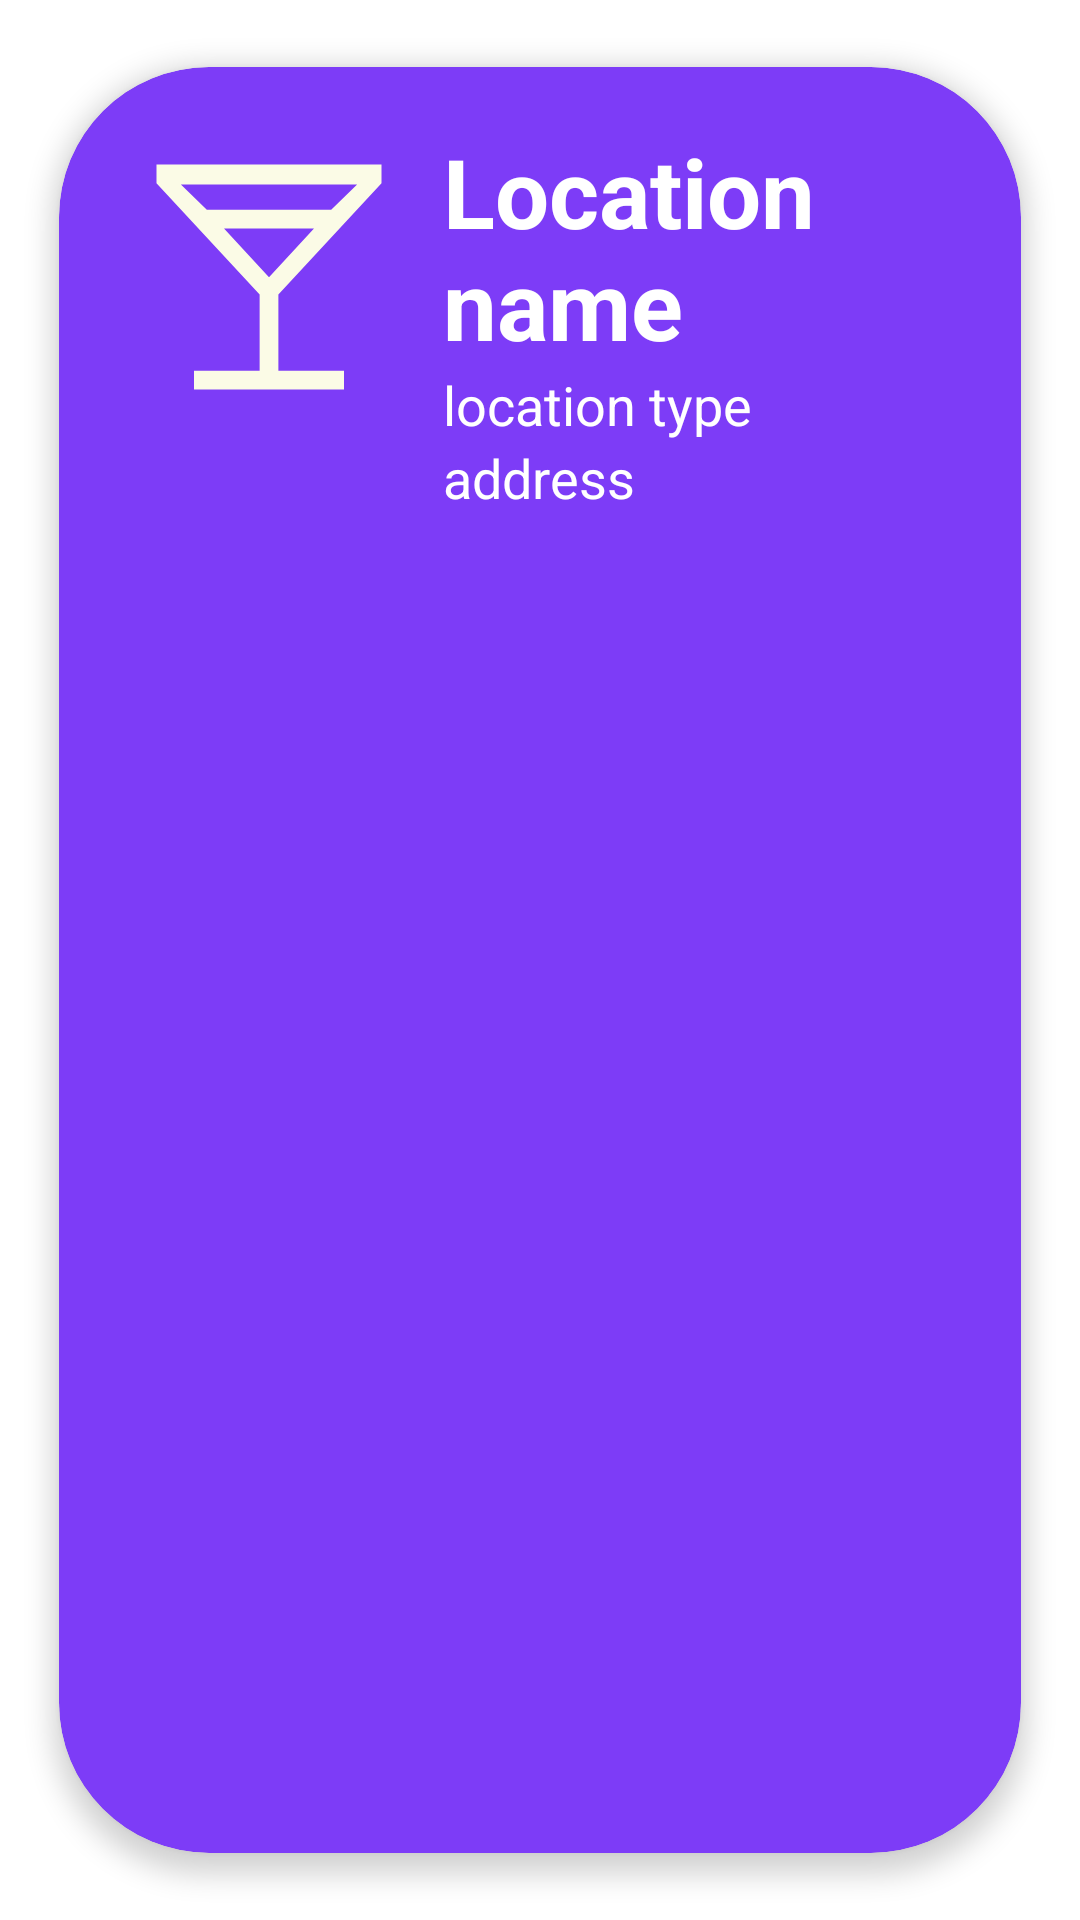

Icon click points for this 1080px×1920px phone screenshot, format (x=x, y=y):
bar: (x=269, y=277)
